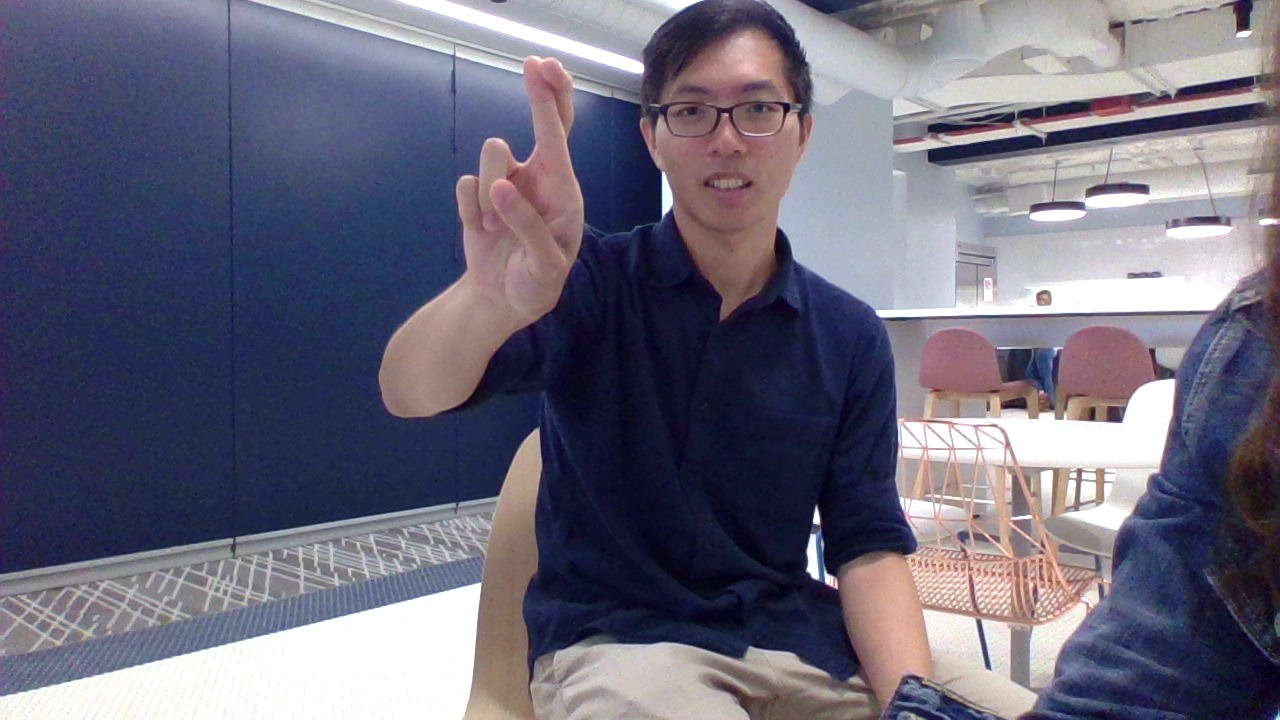r: (447, 44, 611, 344)
